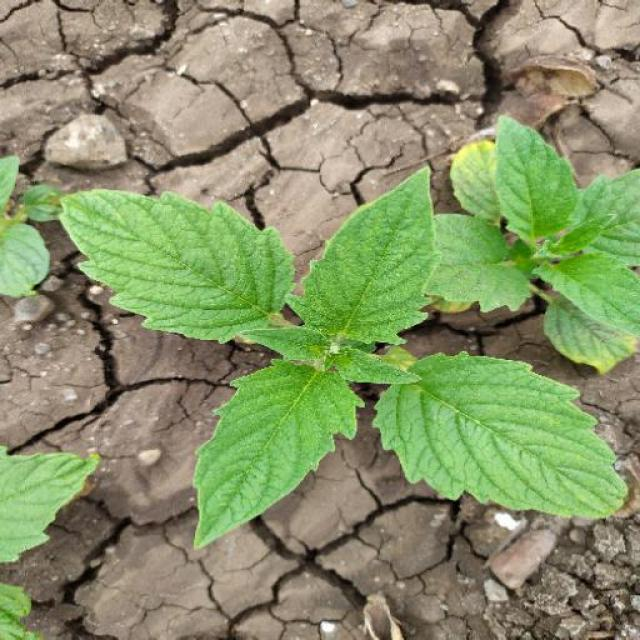crop: (61, 147, 640, 578)
